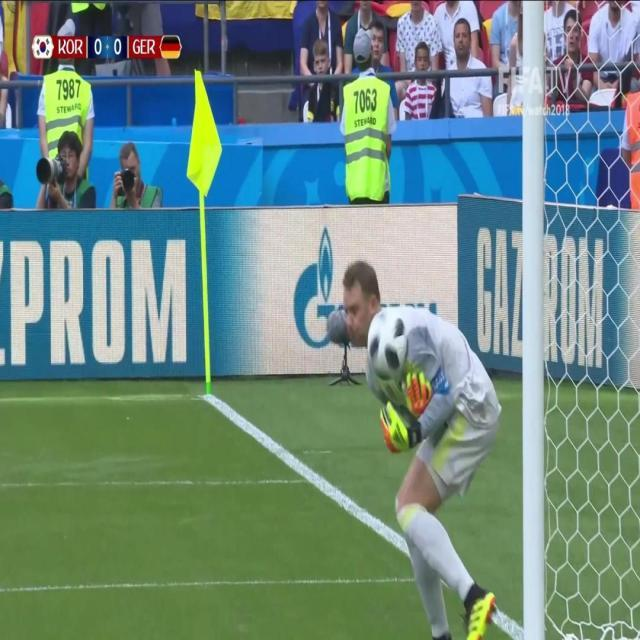ball: (366, 301, 411, 387)
goalkeeper: (342, 224, 511, 639)
